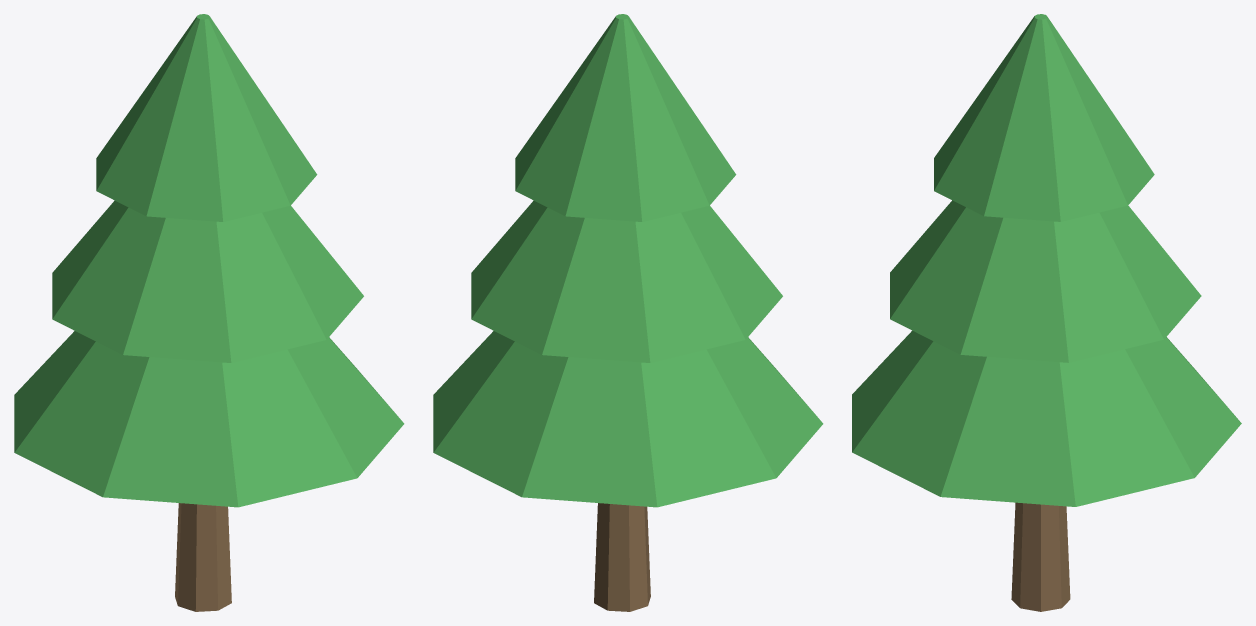
The model's file is Tree.fbx.
The picture shows the model from 3 angles, left to right: view 1: azimuth 30°, elevation 25°; view 2: azimuth 150°, elevation 25°; view 3: azimuth 270°, elevation 25°; orthographic projection.
Parts seen in each view (by area): view 1: Tree_Leaves, Tree_Trunk; view 2: Tree_Leaves, Tree_Trunk; view 3: Tree_Leaves, Tree_Trunk.
Boxes of the visible parts, x1,y1,x2,y2 form: Tree_Leaves: (14,14,404,507); Tree_Trunk: (175,503,231,611); Tree_Leaves: (433,14,823,507); Tree_Trunk: (594,503,650,611); Tree_Leaves: (852,14,1241,506); Tree_Trunk: (1011,502,1070,611).
Bounding box in the file's own units: 2.95 × 4.8 × 2.91.
